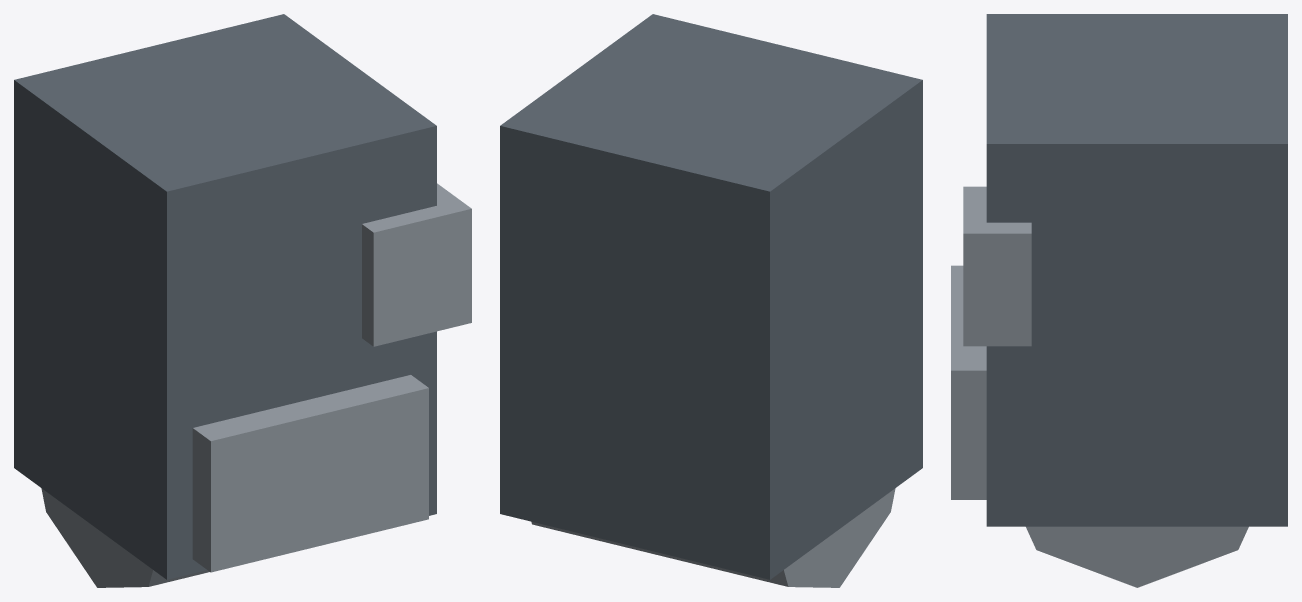
Rendered from pc_epi_upper_leg.fbx.
3 views of the same model, side by side, from view 1: azimuth 30°, elevation 25°; view 2: azimuth 150°, elevation 25°; view 3: azimuth 270°, elevation 25° (orthographic).
Parts seen in each view (by area): view 1: pc_epi_upper_leg; view 2: pc_epi_upper_leg; view 3: pc_epi_upper_leg.
Boxes of the visible parts, bbox=[...] form: pc_epi_upper_leg: bbox=[14, 14, 471, 587]; pc_epi_upper_leg: bbox=[500, 14, 922, 587]; pc_epi_upper_leg: bbox=[951, 14, 1287, 587].
Bounding box in the file's own units: 108 × 159 × 109.
